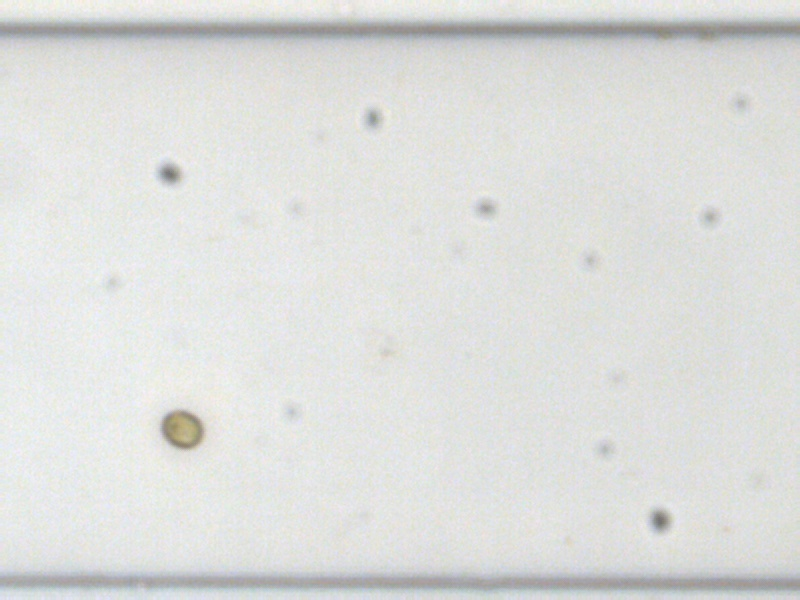Effrenium: (160, 408, 205, 450)
